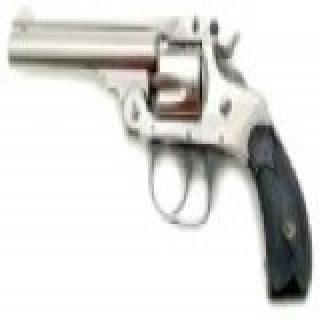gun: (4, 5, 312, 299)
